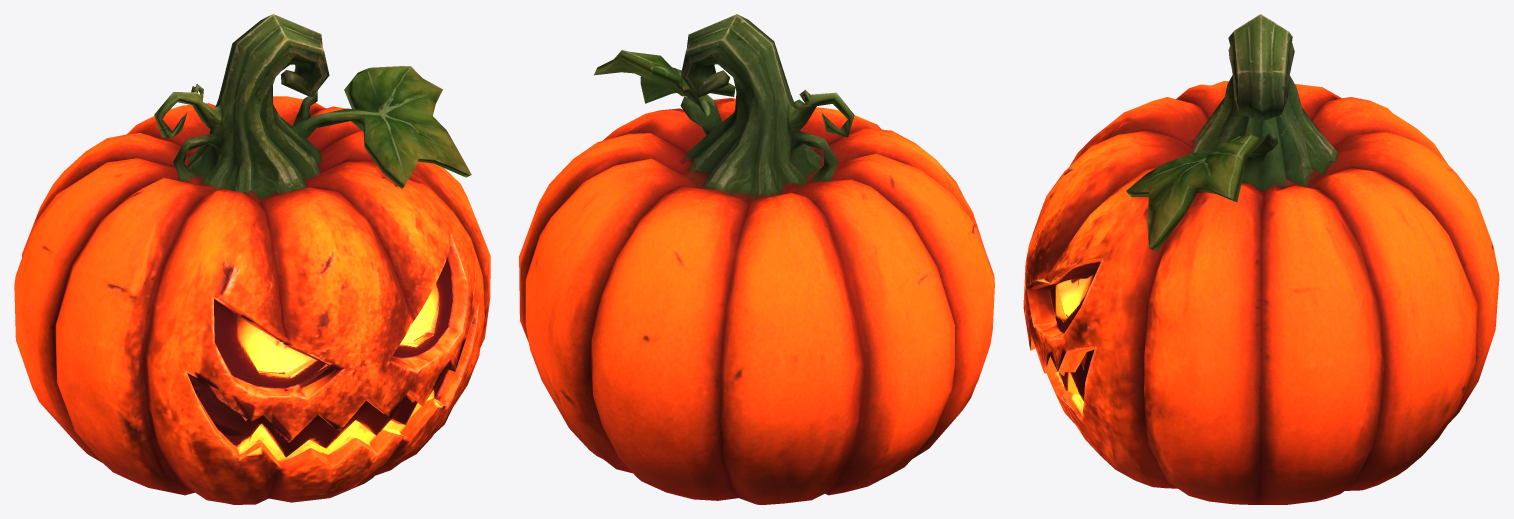
The model's file is pumpkin.glb.
3 renders of one model, left to right at view 1: azimuth 30°, elevation 25°; view 2: azimuth 150°, elevation 25°; view 3: azimuth 270°, elevation 25°, orthographic. The views are drawn at different scales.
Parts seen in each view (by area): view 1: frame; view 2: frame; view 3: frame.
Boxes of the visible parts, box(x1,y1,x2,y2) form: frame: box(14, 14, 490, 504); frame: box(519, 14, 994, 504); frame: box(1023, 14, 1499, 504).
Size of the model in its own units: 0.5898 by 0.6003 by 0.5737.
1 material, 1 textured.
